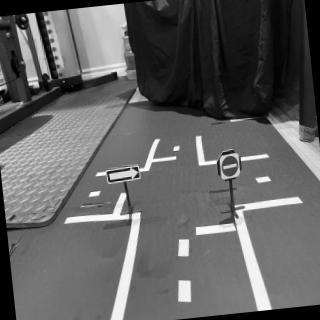sign_noentry: (218, 152, 244, 182)
sign_oneway_right: (106, 162, 144, 187)
